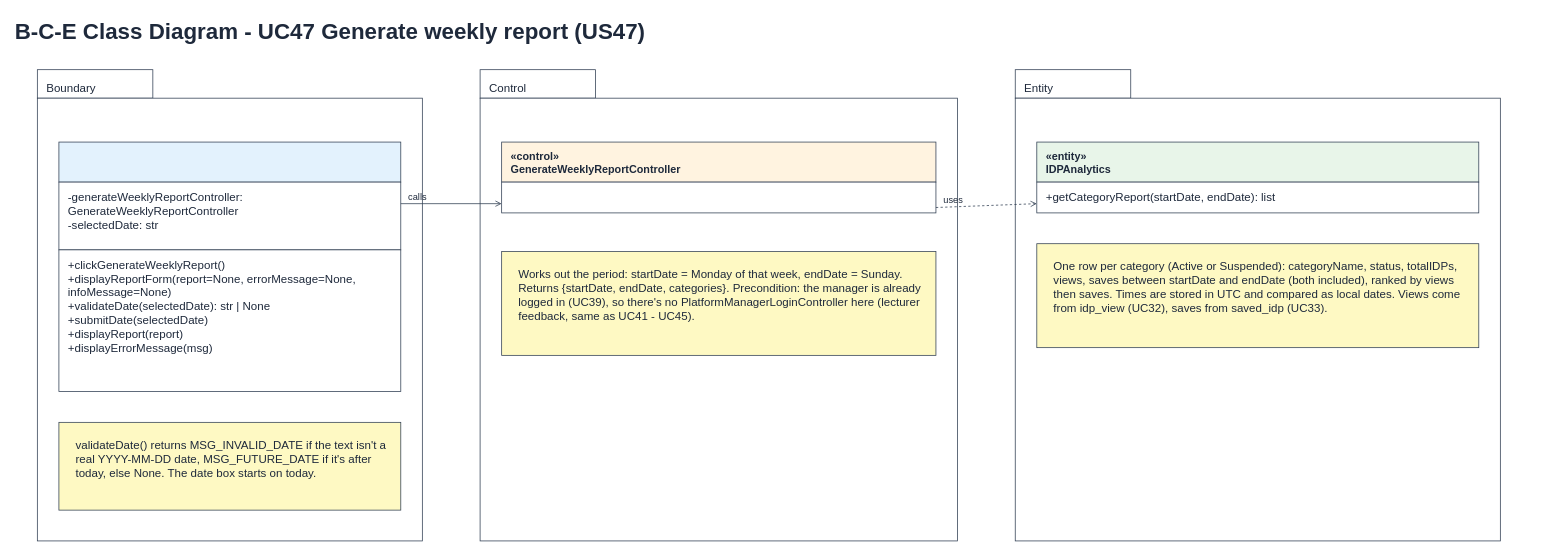
Image size: 1566x554. Some labels were removed from this diagram. The centre of each missing label's shape, as x and y in pixels:
+generateWeeklyReport(selectedDate): dict: pixel 718 197
«boundary» GenerateWeeklyReportPage: pixel 229 161
